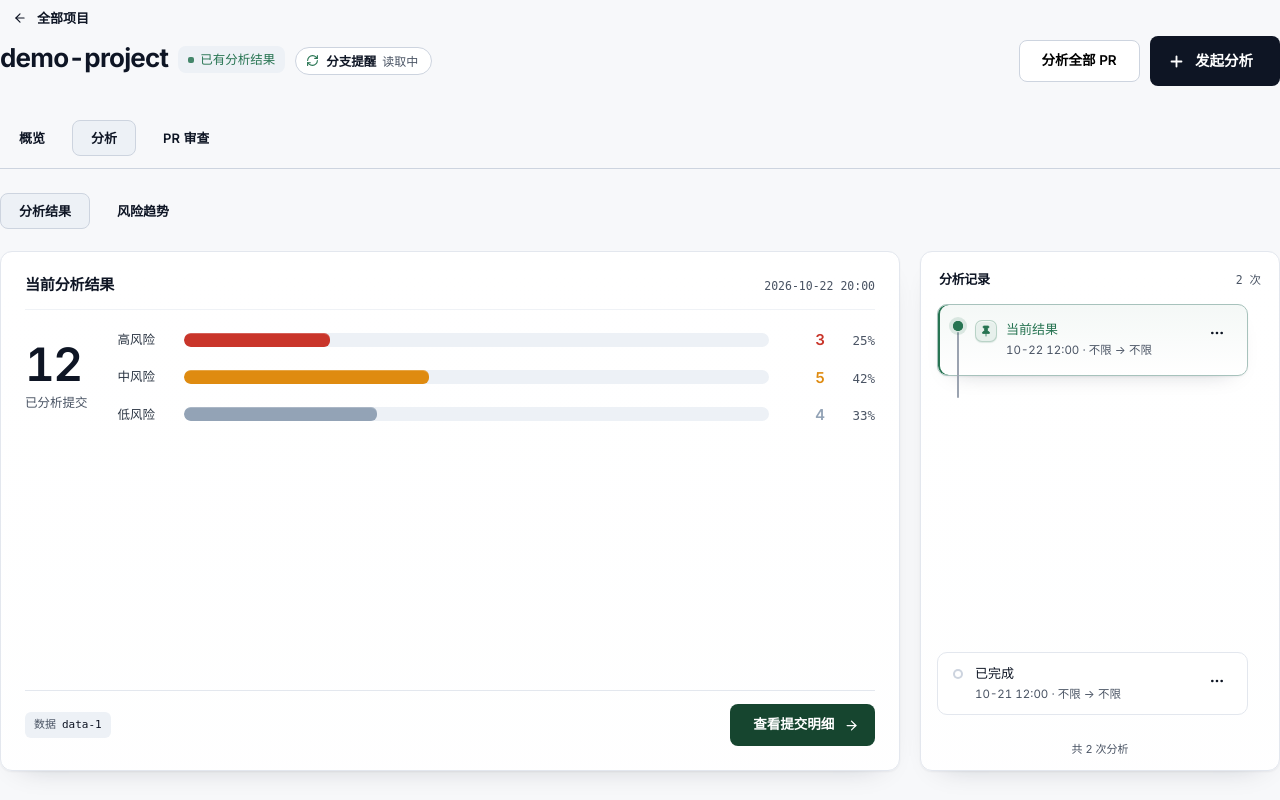
Test: switches the current result from an older completed record
Check: the heading "demo-project" is shown, box [0,43,168,72]
Step 1. Click the 2nd button named "更多操作" → (1217, 680), box [1200,664,1234,698]
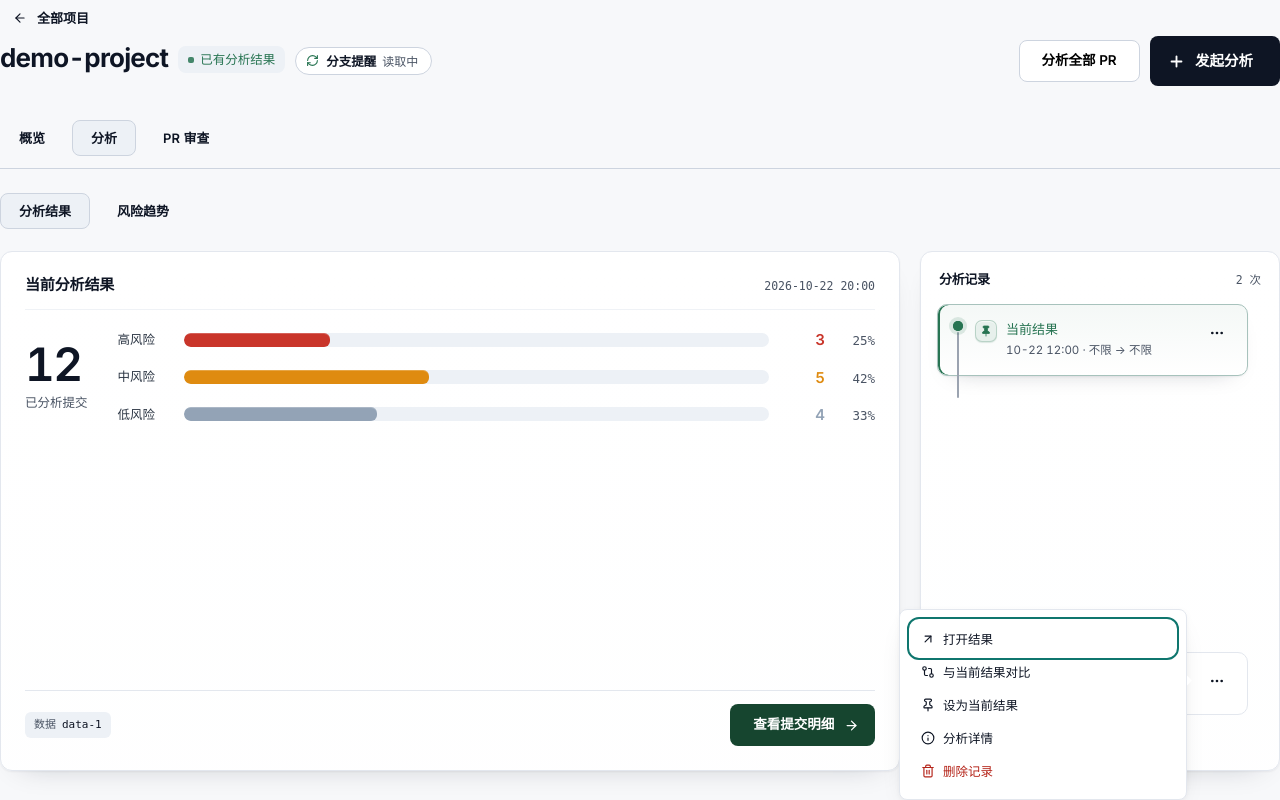
Step 2. Click the menu item "设为当前结果" → (981, 706), box [912,688,1174,721]
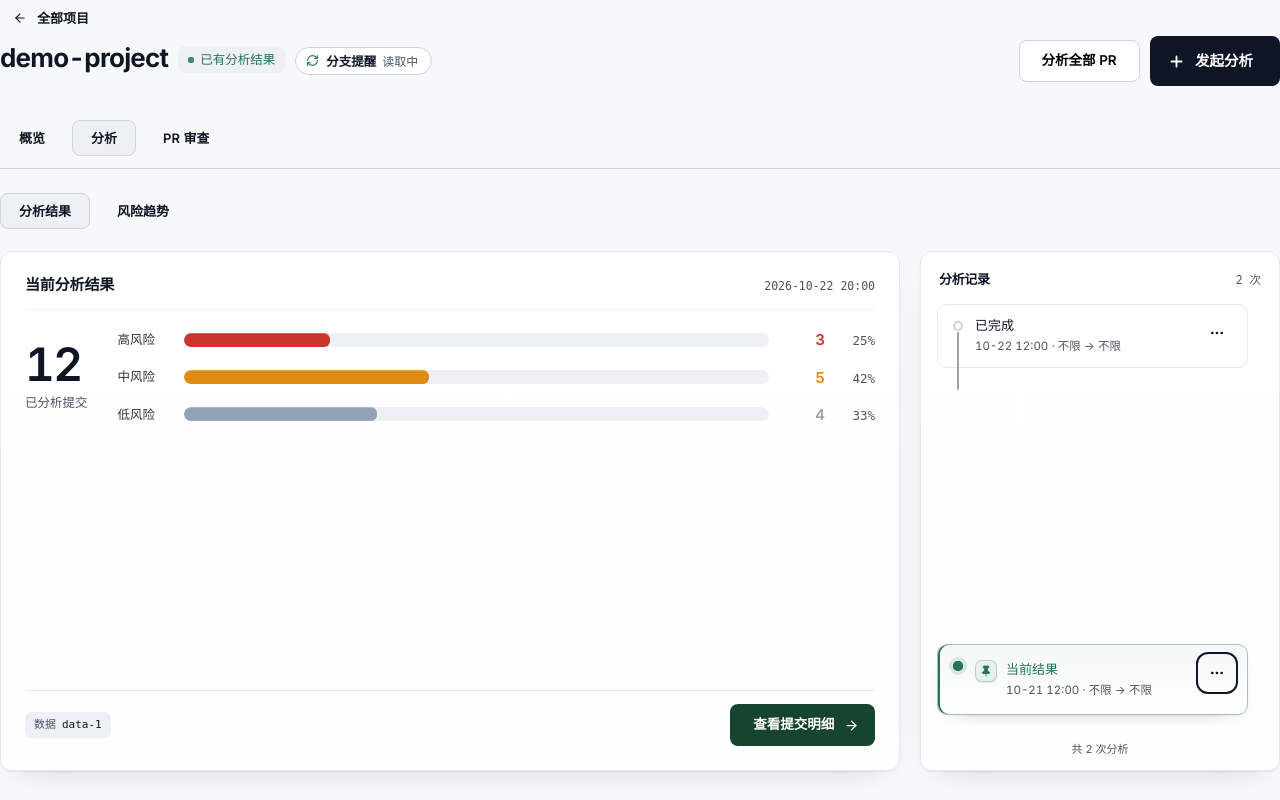
Check: the text "当前结果" is shown, box [1006,660,1058,676]
